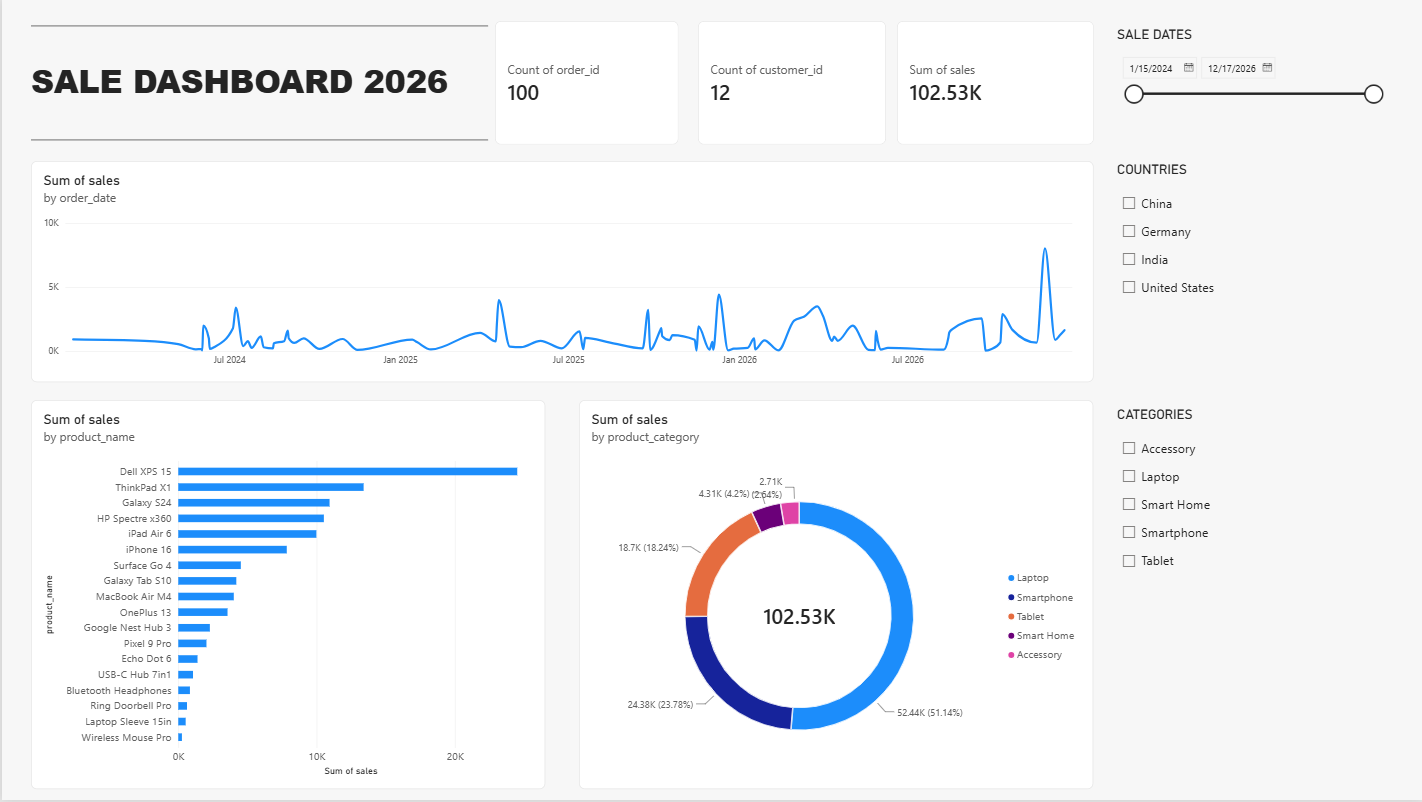

The dashboard page shown, as its layout file describes it:
{"tool":"powerbi","page":{"name":"Report","canvas":[1920,1080],"ordinal":0},"visuals":[{"type":"barChart","fields":{"Category":["orders.product_name"],"Y":["Sum(orders.sales)"]},"box":[39.5,540,695.4,525.5],"z":0},{"type":"donutChart","fields":{"Category":["orders.product_category"],"Y":["Sum(orders.sales)"]},"box":[779.7,540,695.4,525.5],"z":1},{"type":"lineChart","fields":{"Category":["orders.order_date"],"Y":["Sum(orders.sales)"]},"box":[39.5,217.3,1435.6,299],"z":2},{"type":"cardVisual","fields":{"Data":["Count(orders.order_id)"]},"box":[666.4,29,248.9,167.3],"z":5},{"type":"cardVisual","fields":{"Data":["Count(customers.customer_id)"]},"box":[940.4,29,254.2,167.3],"z":6},{"type":"cardVisual","fields":{"Data":["Sum(orders.sales)"]},"box":[1209.1,29,266,167.3],"z":7},{"type":"textbox","box":[39.5,77.7,595.3,71.1],"z":8},{"type":"shape","box":[39.5,183.1,617.7,13.2],"z":9},{"type":"shape","box":[39.5,29,617.7,13.2],"z":10},{"type":"slicer","title":"CATEGORIES","fields":{"Values":["orders.product_category"]},"box":[1506.7,549.2,363.5,272.6],"z":11},{"type":"slicer","title":"COUNTRIES","fields":{"Values":["customers.country"]},"box":[1506.7,217.3,363.5,239.7],"z":12},{"type":"slicer","title":"SALE DATES","fields":{"Values":["orders.order_date"]},"box":[1506.7,35.6,363.5,154.1],"z":13}]}

Visuals, with their boxes in screenshot pixels (x1, y1, x2, y2), scaled from the page's 1920x1080 canvas onto the 1422x802 screenshot:
barChart - orders.product_name x Sum(orders.sales): 29,401,544,791
donutChart - orders.product_category x Sum(orders.sales): 577,401,1092,791
lineChart - orders.order_date x Sum(orders.sales): 29,161,1092,383
cardVisual - Count(orders.order_id): 494,22,678,146
cardVisual - Count(customers.customer_id): 696,22,885,146
cardVisual - Sum(orders.sales): 895,22,1092,146
textbox: 29,58,470,110
shape: 29,136,487,146
shape: 29,22,487,31
"CATEGORIES" slicer: 1116,408,1385,610
"COUNTRIES" slicer: 1116,161,1385,339
"SALE DATES" slicer: 1116,26,1385,141
